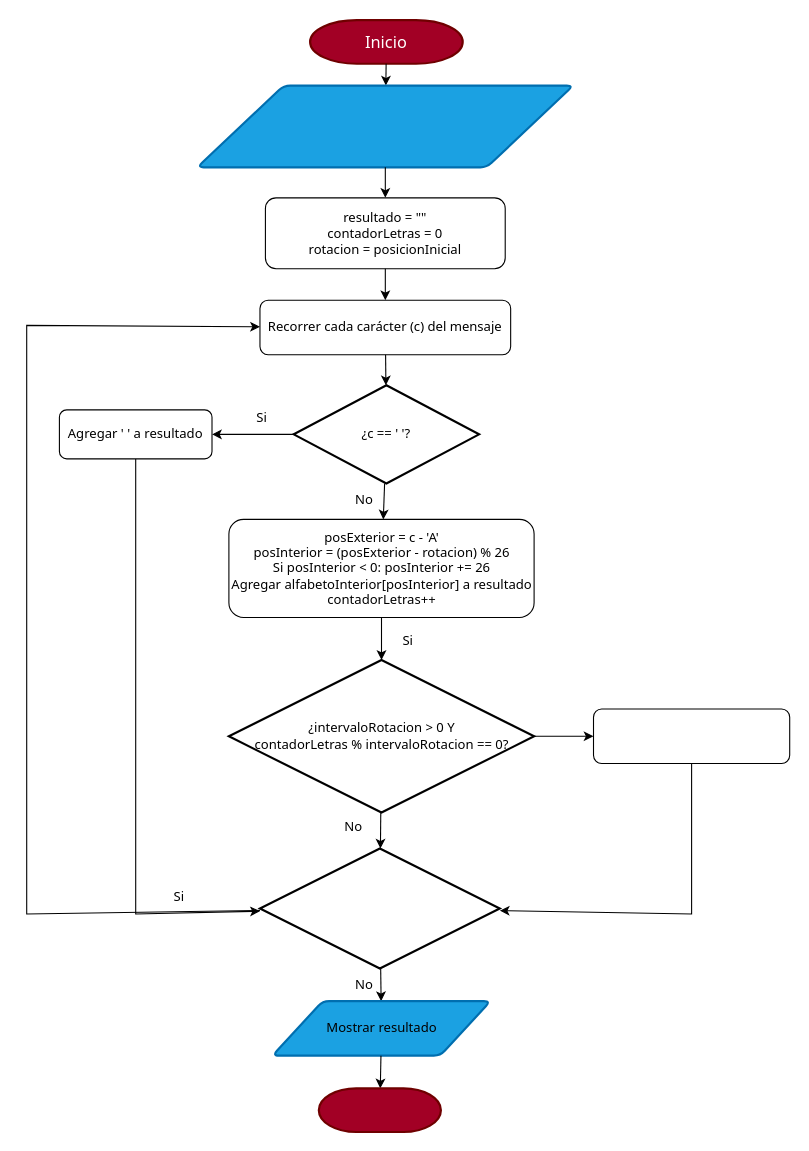
Some shapes in this 809 by 1151 pixel diagram are drawn without their labels. Here are the shapes that lost their labels. From the top down, the centre of each, then its label:
(385,126): Recibir mensaje, alfabetoInterior, posicionInicial, intervaloRotacion
(691,736): rotacion = (rotacion + 1) % 26
(379,908): ¿Hay más caracteres en el mensaje?
(379,1110): Fin
